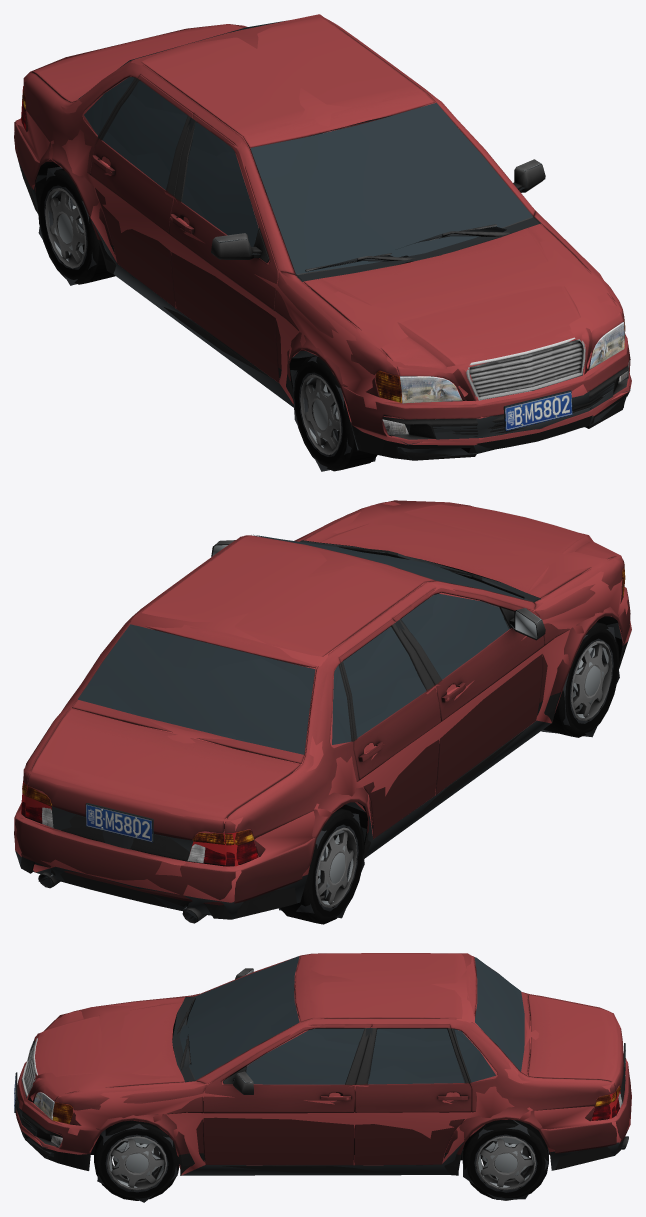
The model's file is civic.glb.
3 views of the same model, one above another, from view 1: azimuth 30°, elevation 25°; view 2: azimuth 150°, elevation 25°; view 3: azimuth 270°, elevation 25° (orthographic). The views are drawn at different scales.
Parts seen in each view (by area): view 1: sedan coachwork, Distant sedan, wheel_LF, wheel_LR, Plate front; view 2: sedan coachwork, Distant sedan, wheel_LR, wheel_LF, Plate rear; view 3: sedan coachwork, Distant sedan, wheel_RR, wheel_RF.
Boxes of the visible parts, x1,y1,x2,y2 form: sedan coachwork: (14,17,631,460); Distant sedan: (14,14,630,471); wheel_LF: (293,355,377,471); wheel_LR: (37,168,115,284); Plate front: (503,390,572,430); sedan coachwork: (14,501,631,923); Distant sedan: (14,500,628,920); wheel_LR: (280,808,364,924); wheel_LF: (543,622,619,737); Plate rear: (85,803,153,842); sedan coachwork: (15,953,631,1175); Distant sedan: (14,953,631,1202); wheel_RR: (463,1119,548,1200); wheel_RF: (94,1120,179,1200).
Size of the model in its own units: 2.19 by 1.53 by 4.92.
Materials: 14 (4 with a texture image).
